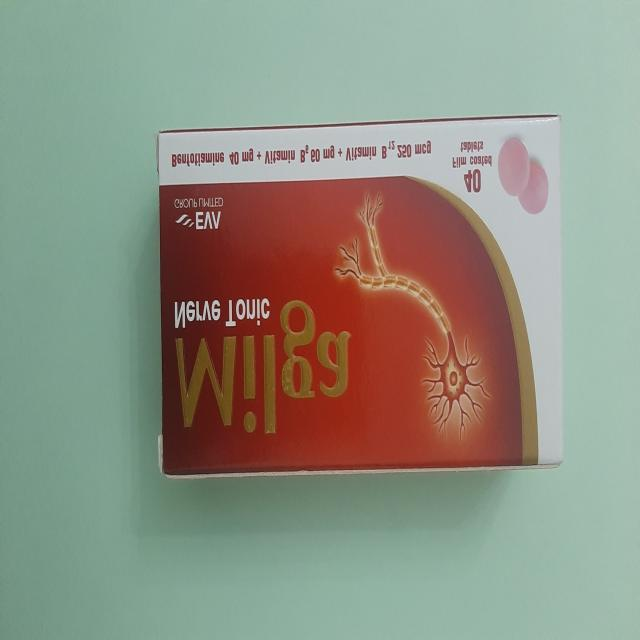Medicine Name: (170, 328, 362, 444)
